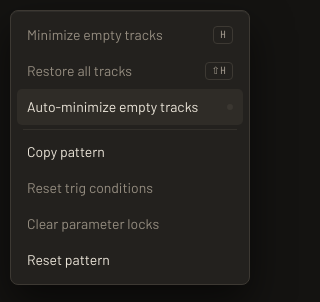
Test: GridContextMenu Copy pattern › shows Failed when the clipboard refuses
Click the menu item "Copy pattern" at point(130, 152), box left=17, top=134, right=243, bottom=170
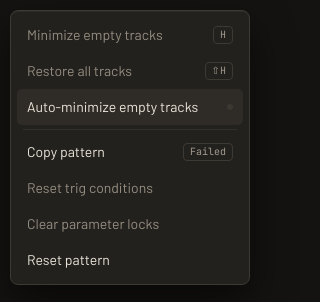
Expected: the message reads "Failed", left=190, top=145, right=226, bottom=158
